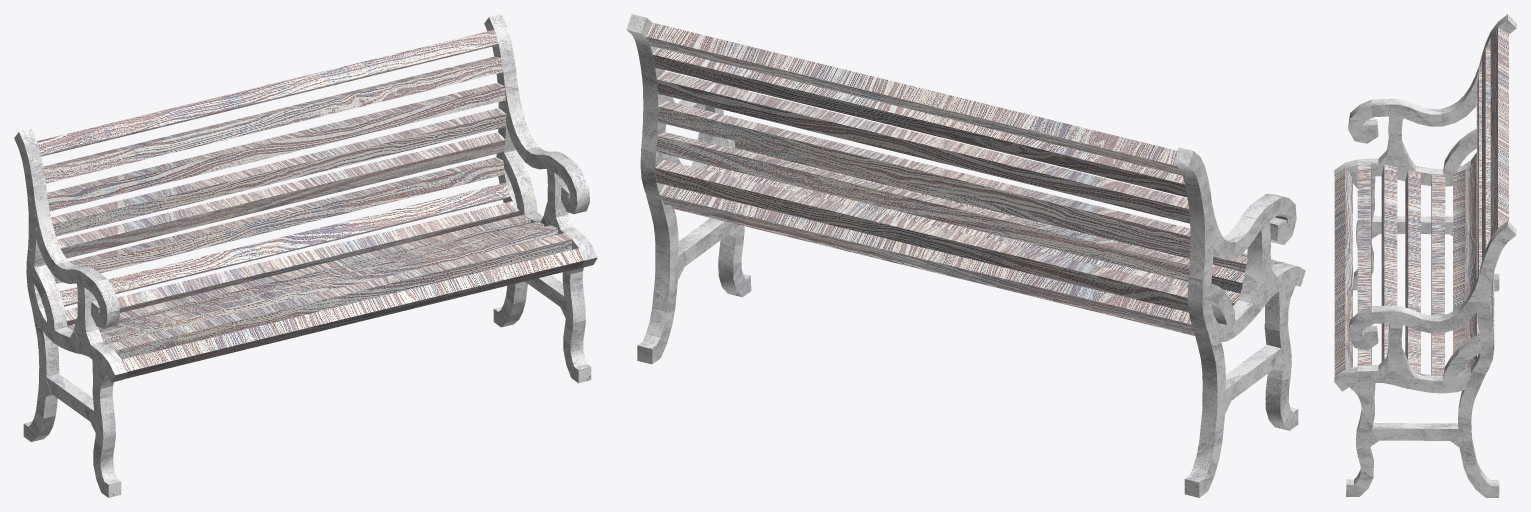
Rendered from banch.obj.
3 views of the same model, side by side, from view 1: azimuth 30°, elevation 25°; view 2: azimuth 150°, elevation 25°; view 3: azimuth 270°, elevation 25° (orthographic). The views are drawn at different scales.
Parts seen in each view (by area): view 1: Union5, Union1, Union4, Union8, Union7, Union3, Union9, Union2, Union6; view 2: Union5, Union1, Union8, Union4, Union3, Union7, Union2, Union9; view 3: Union5, Union8, Union7, Union1, Union9, Union4, Union3, Union6, Union2.
Part boxes in pixels (box(x1,y1,x2,y2)): Union5: box(37, 29, 584, 378); Union1: box(14, 128, 115, 450); Union4: box(30, 273, 127, 497); Union8: box(484, 14, 585, 335); Union7: box(500, 158, 597, 383); Union3: box(26, 184, 119, 328); Union9: box(496, 69, 589, 213); Union2: box(30, 265, 114, 399); Union6: box(501, 150, 584, 285); Union5: box(646, 23, 1284, 335); Union1: box(1173, 147, 1291, 497); Union8: box(626, 14, 744, 364); Union4: box(1193, 194, 1305, 476); Union3: box(1187, 191, 1296, 285); Union7: box(646, 138, 751, 342); Union2: box(1207, 264, 1298, 341); Union9: box(640, 64, 748, 152); Union5: box(1334, 27, 1508, 375); Union8: box(1356, 221, 1516, 497); Union7: box(1334, 305, 1486, 496); Union1: box(1356, 14, 1516, 291); Union9: box(1348, 262, 1494, 350); Union4: box(1334, 99, 1468, 290); Union3: box(1348, 55, 1481, 143); Union6: box(1345, 334, 1485, 414); Union2: box(1353, 129, 1476, 207).
Size of the model in its own units: 7.6 by 4.54 by 2.76.
2 materials, 2 textured.
